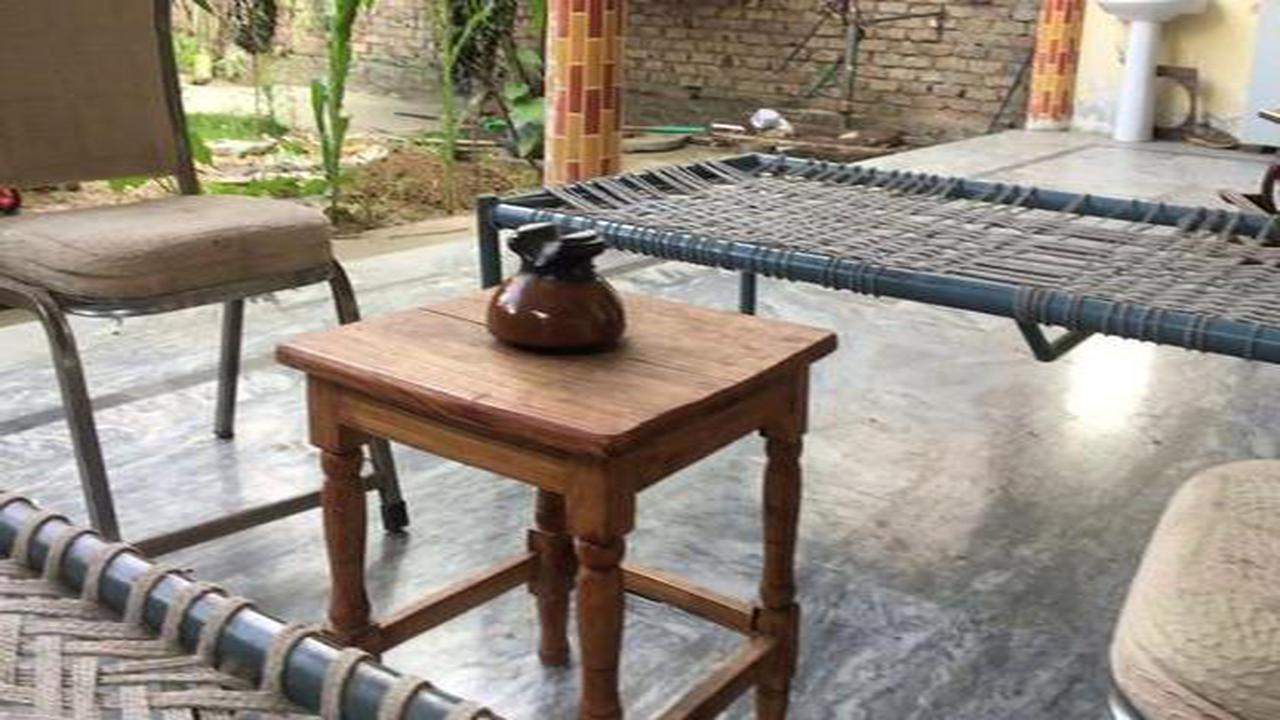insulator_pin: (468, 206, 653, 371)
